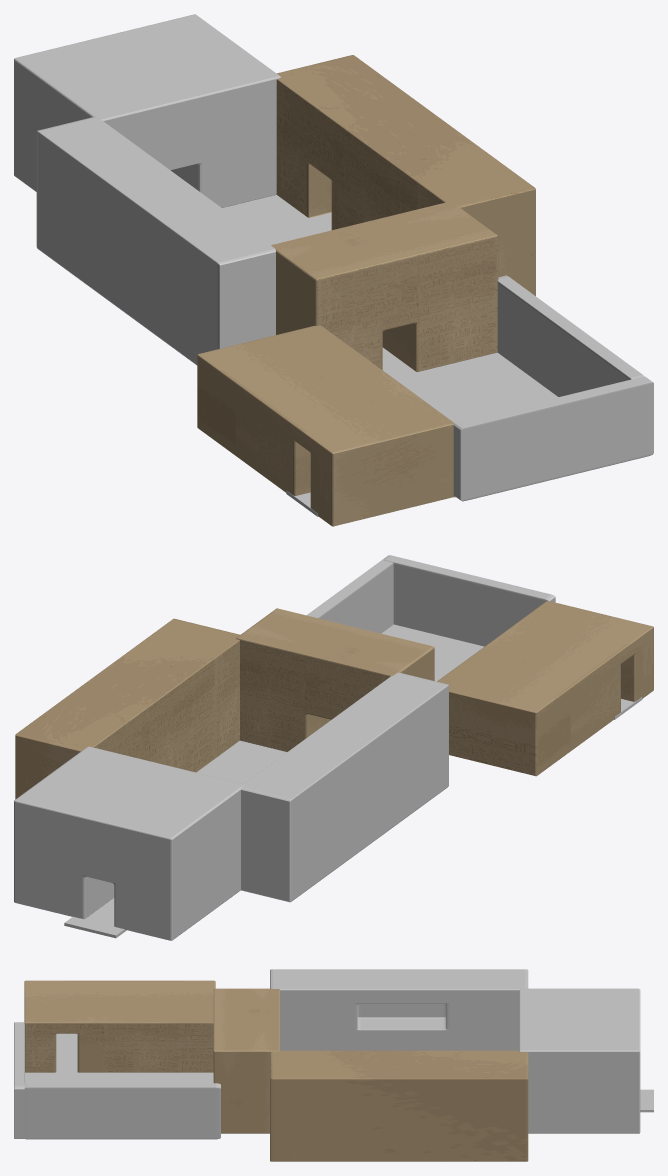
The model's file is RoomModel.fbx.
3 views of the same model, one above another, from view 1: azimuth 30°, elevation 25°; view 2: azimuth 150°, elevation 25°; view 3: azimuth 270°, elevation 25° (orthographic). The views are drawn at different scales.
Visible parts, largest first — view 1: LevelledWall, EntranceWall, ExitWall, AltarWall, Corridor, FirstRoomWall, Floor, StatueWall; view 2: ExitWall, LevelledWall, EntranceWall, AltarWall, Corridor, FirstRoomWall, Floor, StatueWall; view 3: AltarWall, LevelledWall, ExitWall, EntranceWall, StatueWall, Corridor, Floor, FirstRoomWall.
Part boxes in pixels (bbox=[...]): LevelledWall: bbox=[36, 117, 275, 365]; EntranceWall: bbox=[197, 325, 454, 526]; ExitWall: bbox=[14, 14, 280, 207]; AltarWall: bbox=[276, 55, 535, 295]; Corridor: bbox=[271, 201, 498, 371]; FirstRoomWall: bbox=[453, 376, 653, 501]; Floor: bbox=[222, 195, 558, 516]; StatueWall: bbox=[497, 275, 644, 396]; ExitWall: bbox=[14, 746, 244, 940]; LevelledWall: bbox=[241, 672, 448, 902]; EntranceWall: bbox=[437, 601, 653, 776]; AltarWall: bbox=[15, 618, 240, 799]; Corridor: bbox=[236, 608, 434, 751]; FirstRoomWall: bbox=[382, 555, 555, 646]; Floor: bbox=[64, 624, 642, 938]; StatueWall: bbox=[306, 560, 393, 633]; AltarWall: bbox=[270, 1050, 528, 1161]; LevelledWall: bbox=[270, 969, 528, 1050]; ExitWall: bbox=[519, 988, 640, 1133]; EntranceWall: bbox=[24, 980, 215, 1072]; StatueWall: bbox=[24, 1083, 220, 1139]; Corridor: bbox=[213, 988, 279, 1133]; Floor: bbox=[25, 1033, 653, 1112]; FirstRoomWall: bbox=[14, 1022, 24, 1138].
Size of the model in its own units: 2685 by 816 by 5579.
